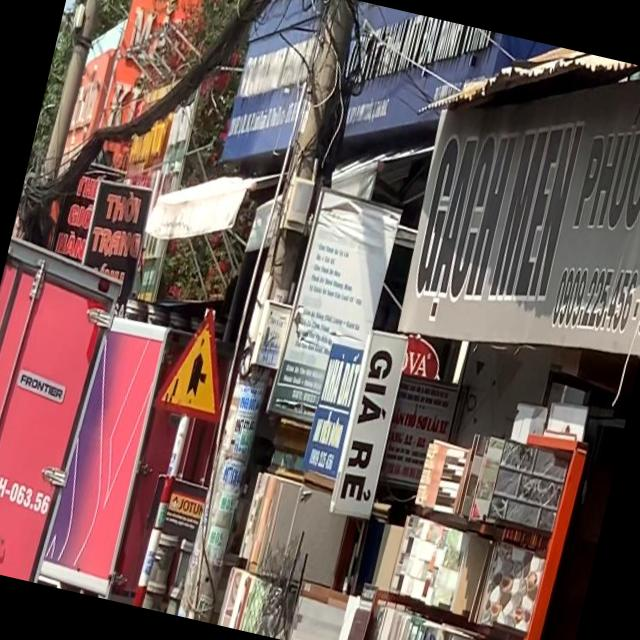W-207b: (148, 303, 241, 425)
